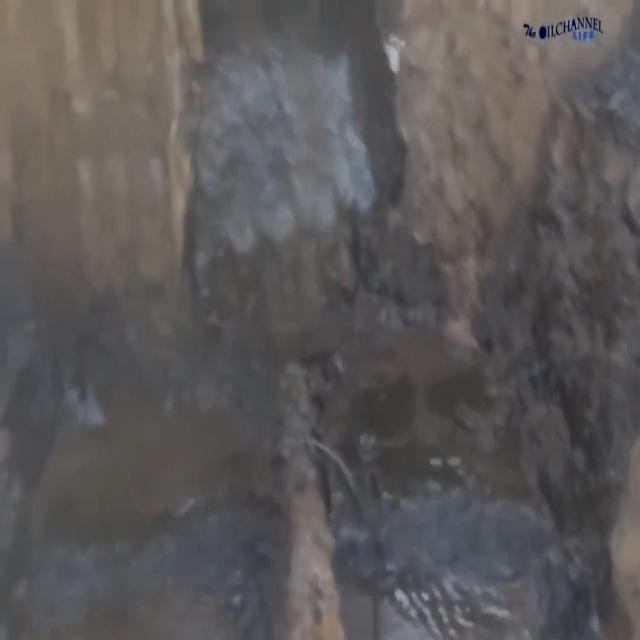spillage: (4, 406, 556, 640)
